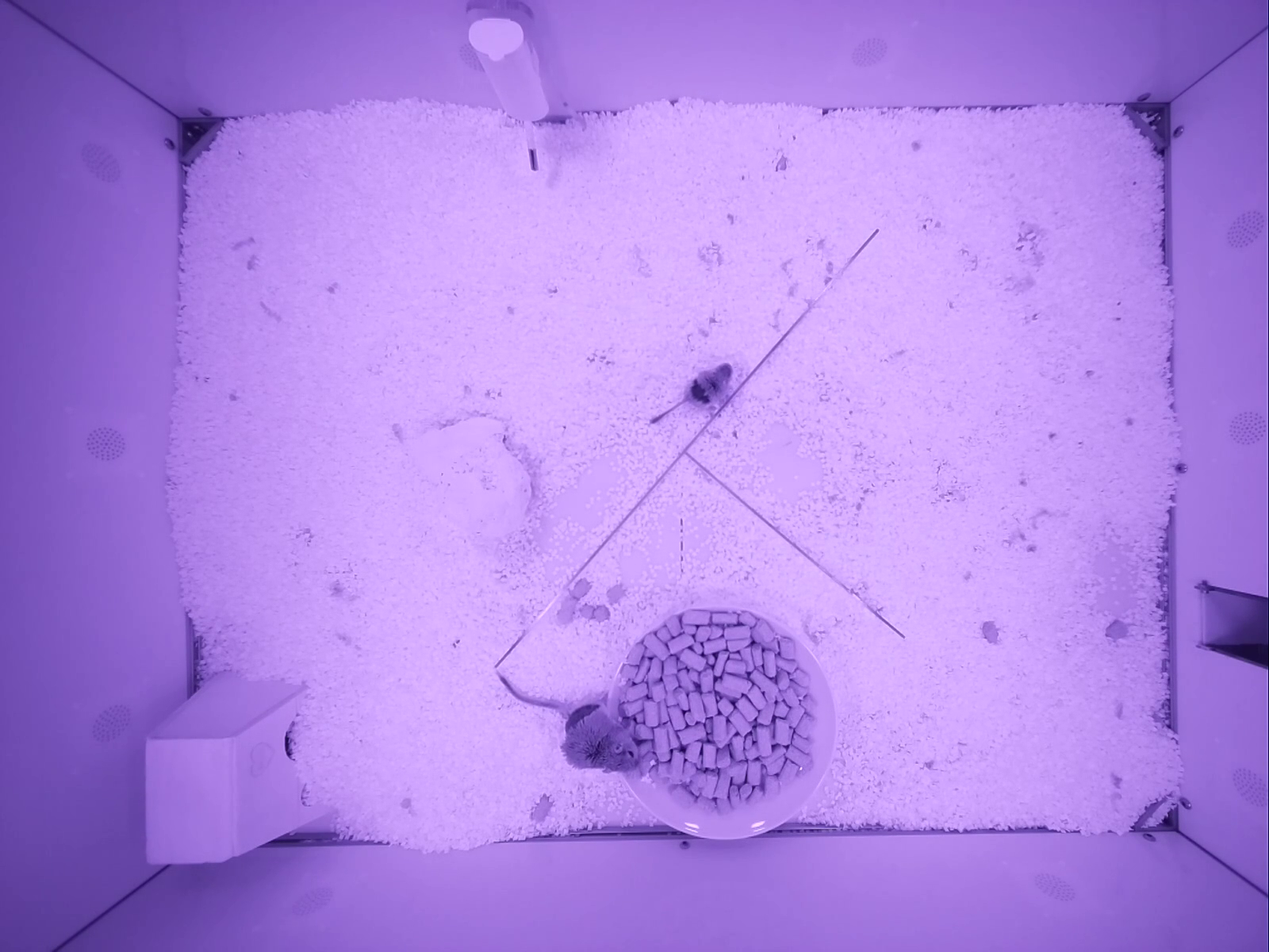adult_back: (497, 672, 637, 771), (650, 363, 731, 422)
